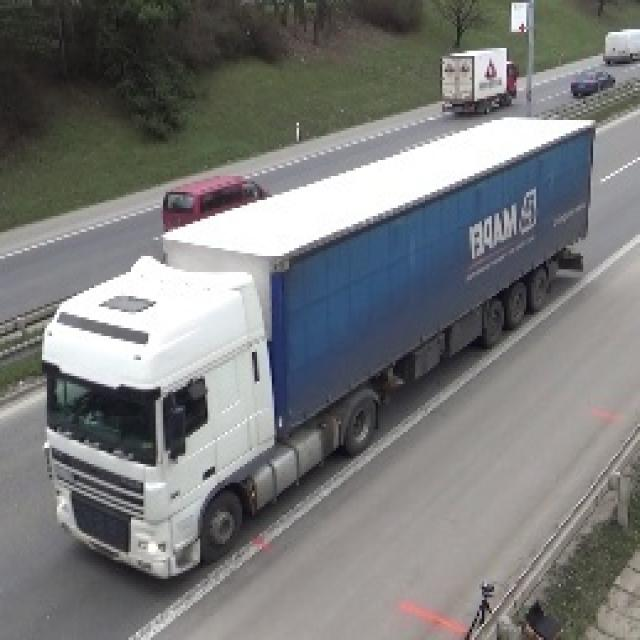TRUCK: (36, 128, 590, 586), (442, 50, 518, 114), (605, 29, 640, 63)
